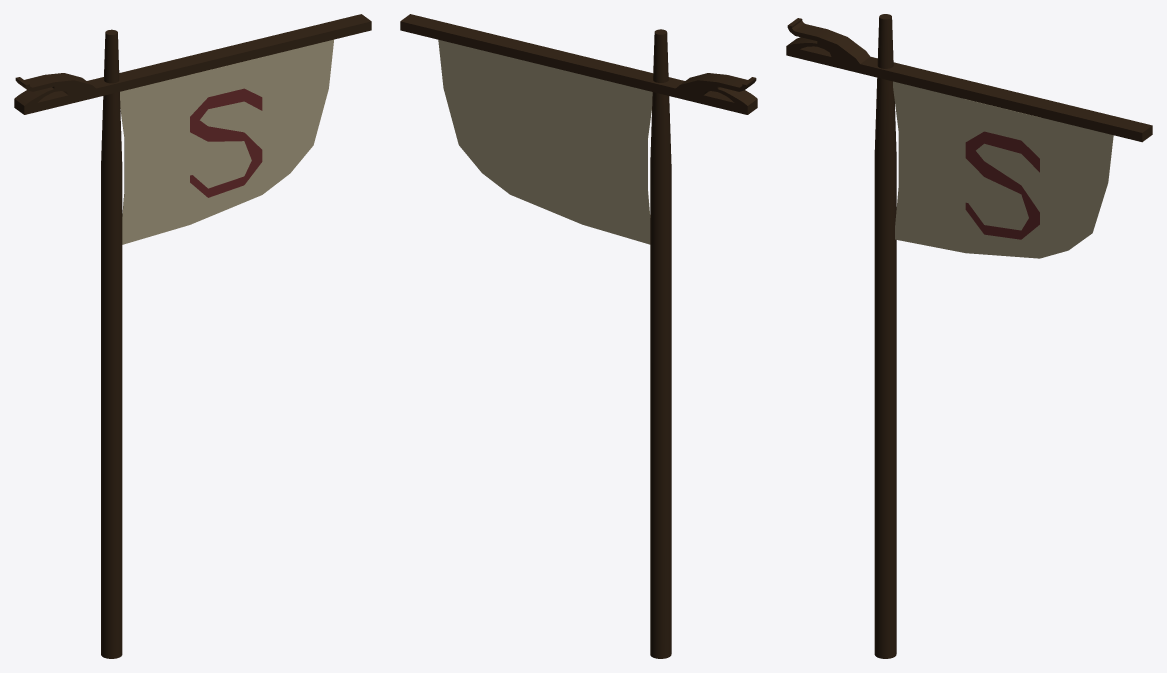
The model's file is end_flag.dae.
The picture shows the model from 3 angles, left to right: view 1: azimuth 30°, elevation 25°; view 2: azimuth 150°, elevation 25°; view 3: azimuth 330°, elevation 25°; orthographic projection. The views are drawn at different scales.
Visible parts, largest first — view 1: end_flag; view 2: end_flag; view 3: end_flag.
Part boxes in pixels (left/top/right/bottom): end_flag: left=14, top=14, right=371, bottom=658; end_flag: left=400, top=14, right=757, bottom=658; end_flag: left=786, top=14, right=1152, bottom=658.
Bounding box in the file's own units: 4 × 6.85 × 0.2141.
